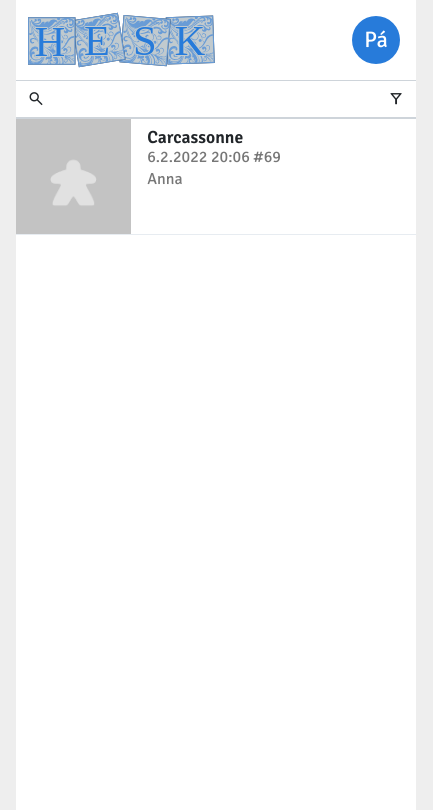
Test case: game list › searches by name and says so when nothing is found
Expected: the text "Carcassonne" is shown, [147,126,243,148]
Step 1. Type "xyz" into the search field named "Hledat hru" → (216, 99), box [16,80,416,118]
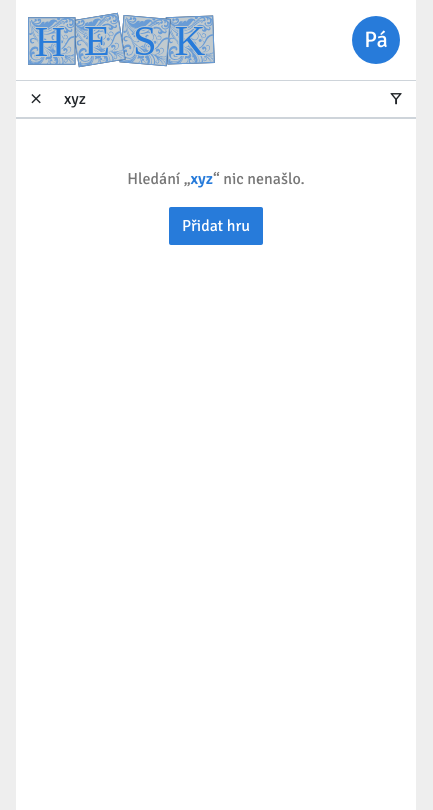
Now the text "Hledání „xyz“ nic nenašlo." is shown, box [127,167,305,191]
Step 2. Click the button named "Smazat hledání" → (36, 99), box [16,80,56,118]
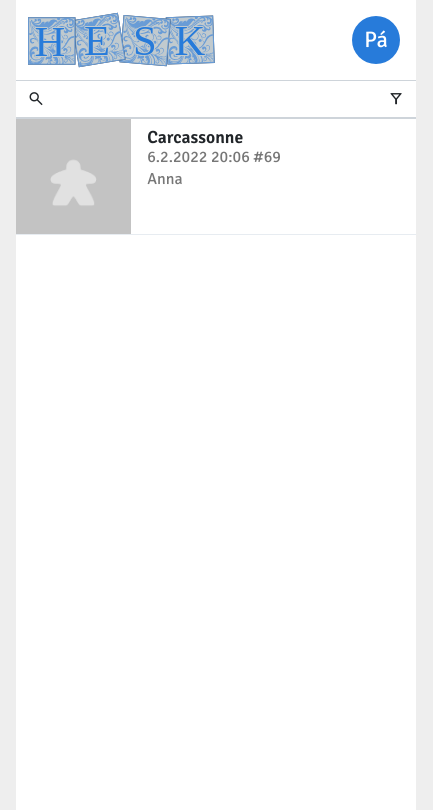
Now the text "Carcassonne" is shown, box [147,126,243,148]
